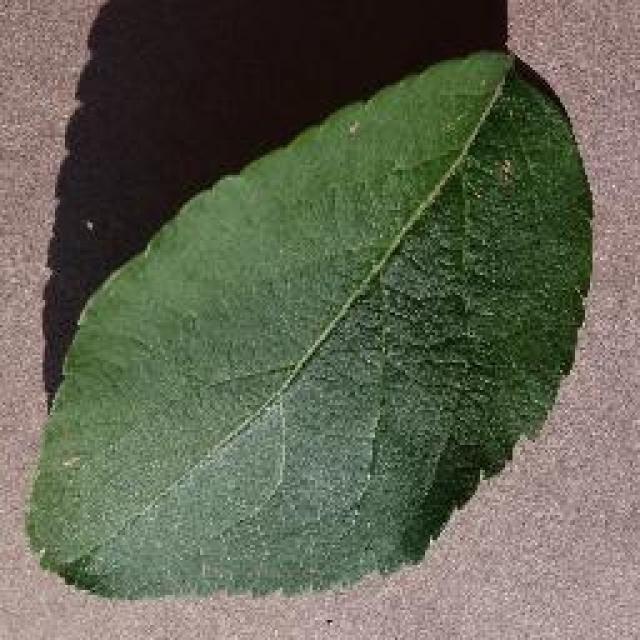apple healthy: (23, 42, 595, 602)
